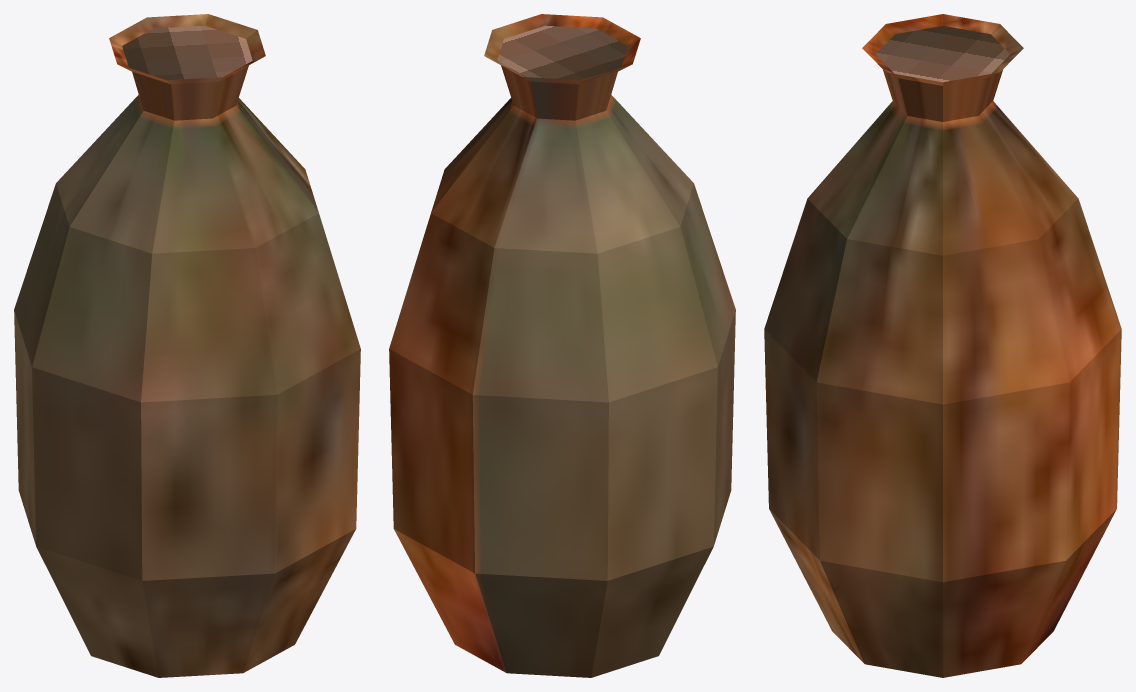
File: vase 3.fbx
3 renders of one model, left to right at view 1: azimuth 30°, elevation 25°; view 2: azimuth 150°, elevation 25°; view 3: azimuth 270°, elevation 25°, orthographic.
Parts seen in each view (by area): view 1: Cylinder; view 2: Cylinder; view 3: Cylinder.
Boxes of the visible parts, box(x1,y1,x2,y2) form: Cylinder: box(14, 14, 360, 677); Cylinder: box(389, 14, 735, 677); Cylinder: box(764, 14, 1121, 677).
Bounding box in the file's own units: 146 × 264 × 146.
